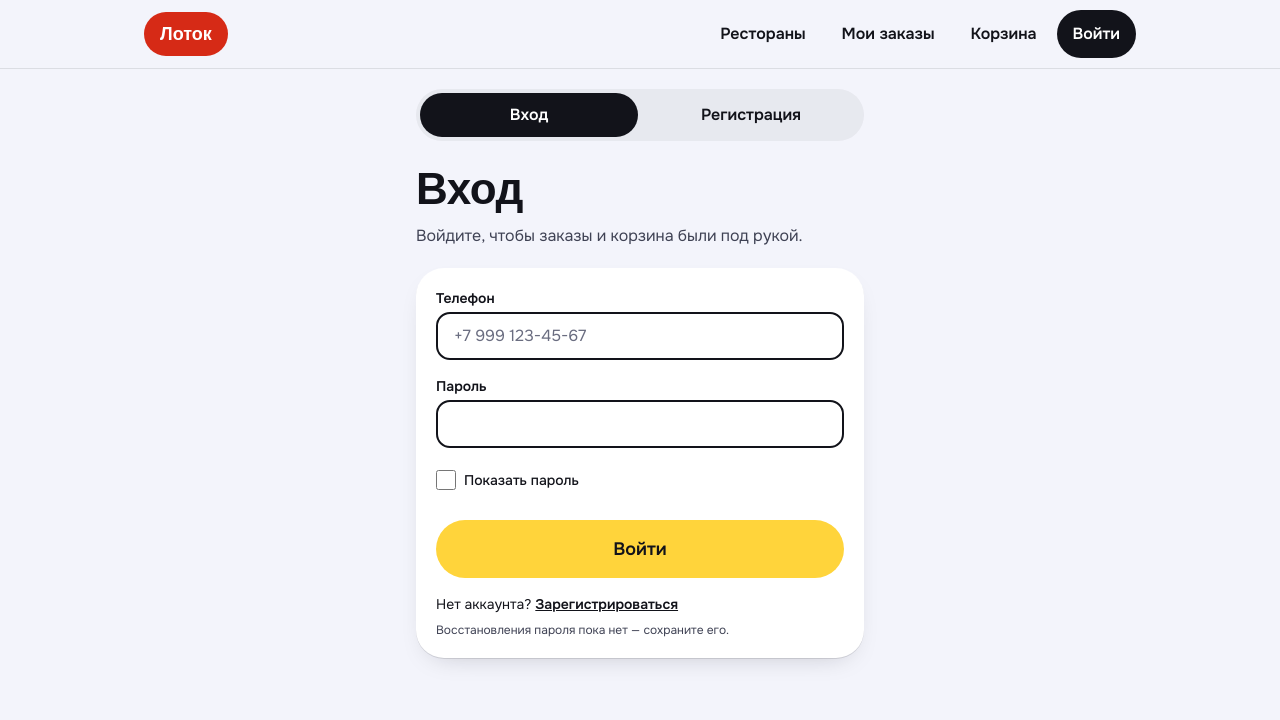
сессия (UC-ACC) › вход → профиль; выход очищает сессию
Type "+79990000001" into the field labelled "Телефон" at coordinates (640, 336), box [436, 312, 844, 360]
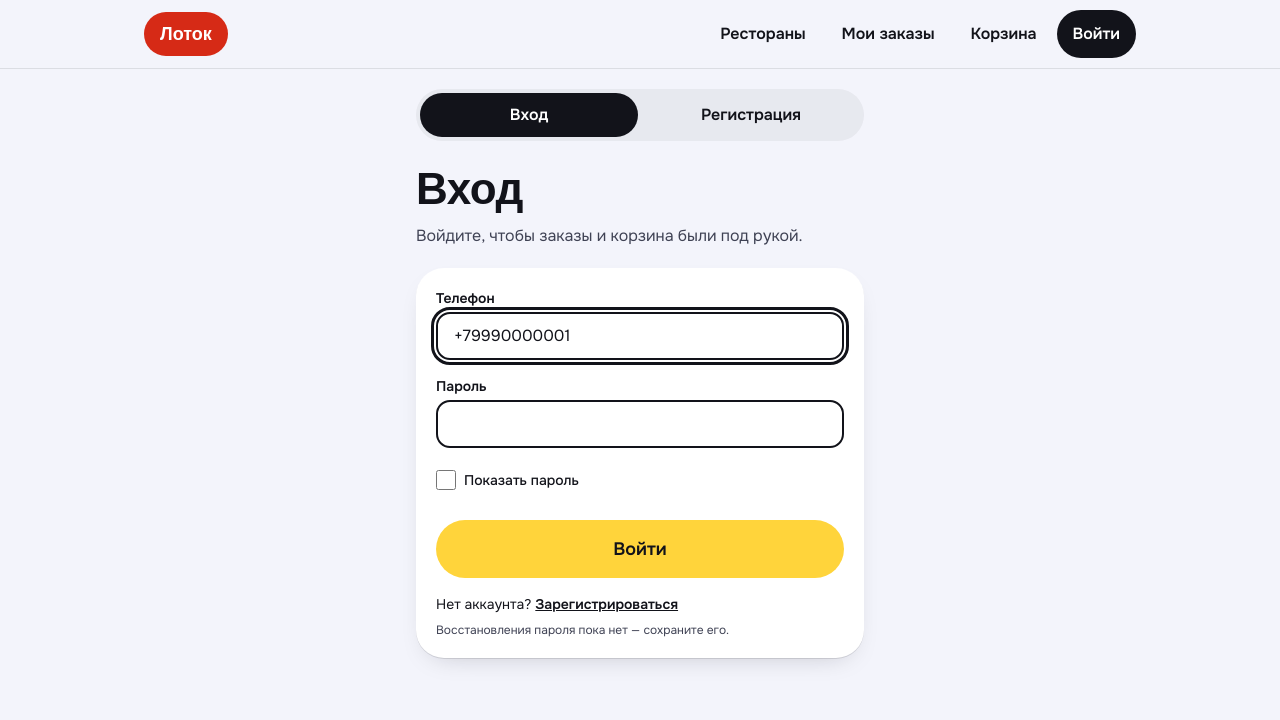
Type "secret1" into the password field labelled "Пароль" at coordinates (640, 424), box [436, 400, 844, 448]
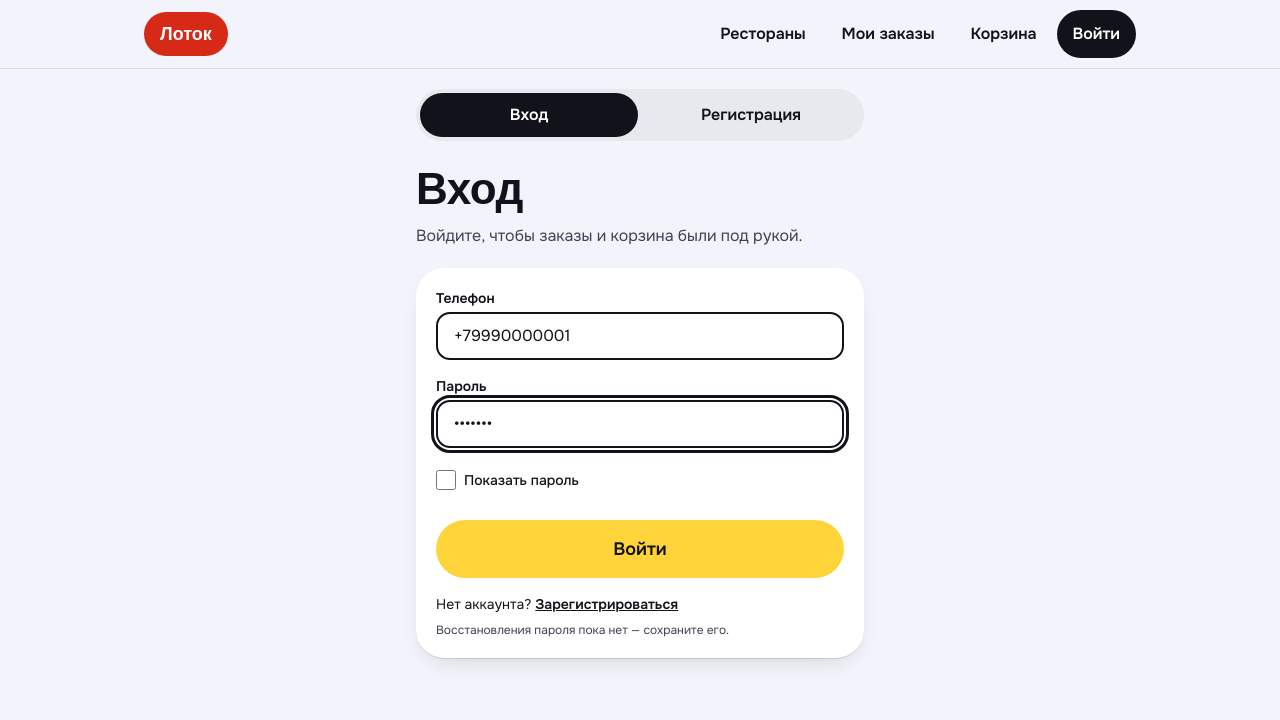
Click the button "Войти" at coordinates (640, 549), box [436, 520, 844, 578]
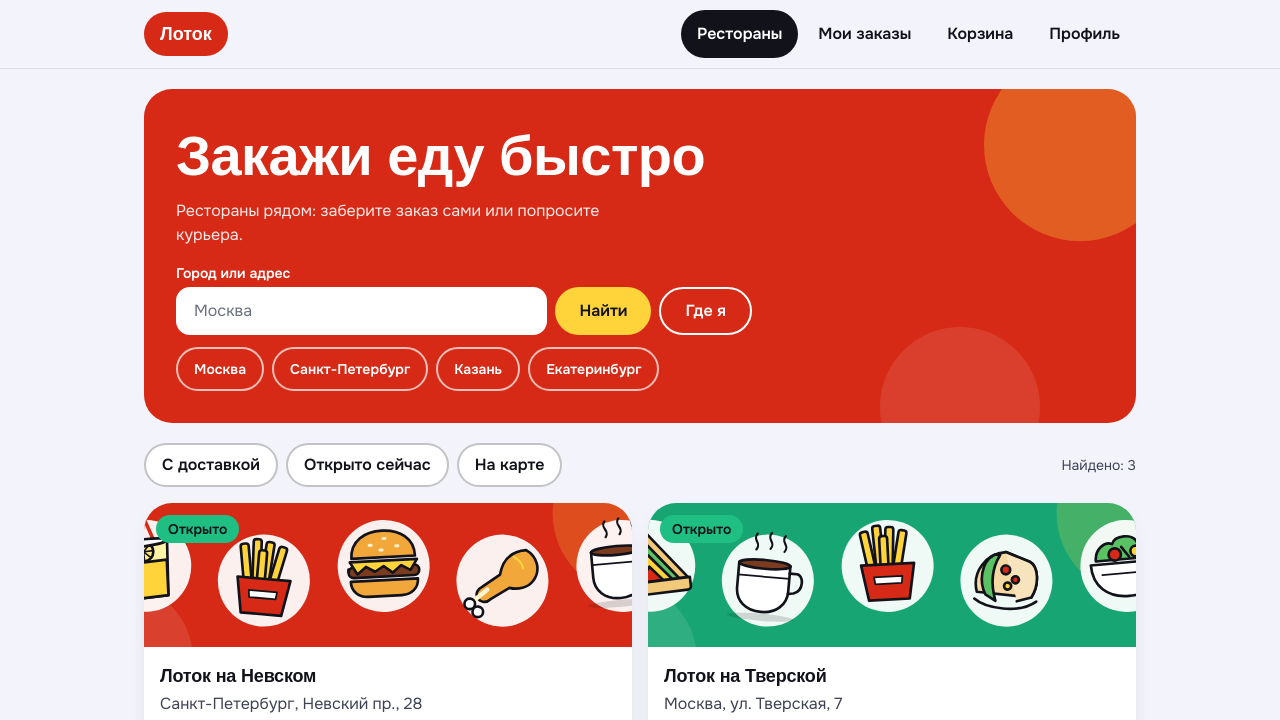
Click the link "Профиль" at coordinates (1085, 34), box [1049, 23, 1120, 44]
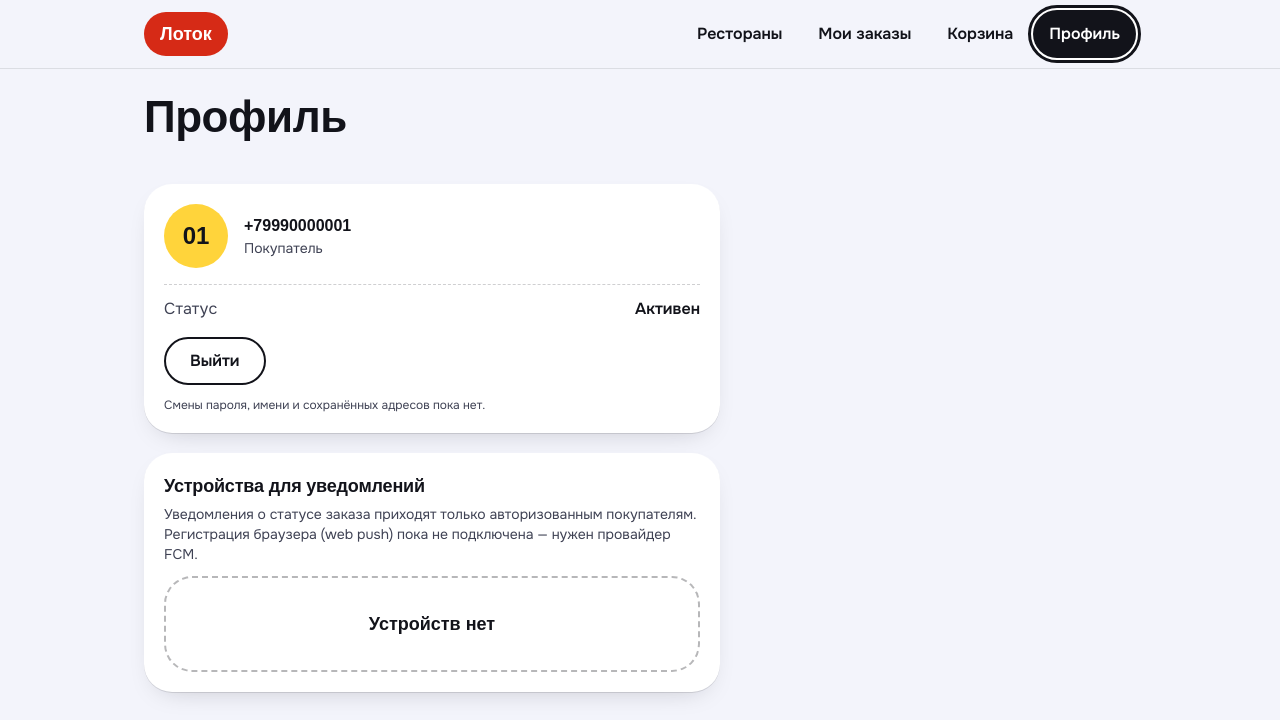
Expected: the text "+79990000001" is shown, [244, 214, 351, 238]
Click the button "Выйти" at coordinates (215, 361), box [164, 337, 266, 385]
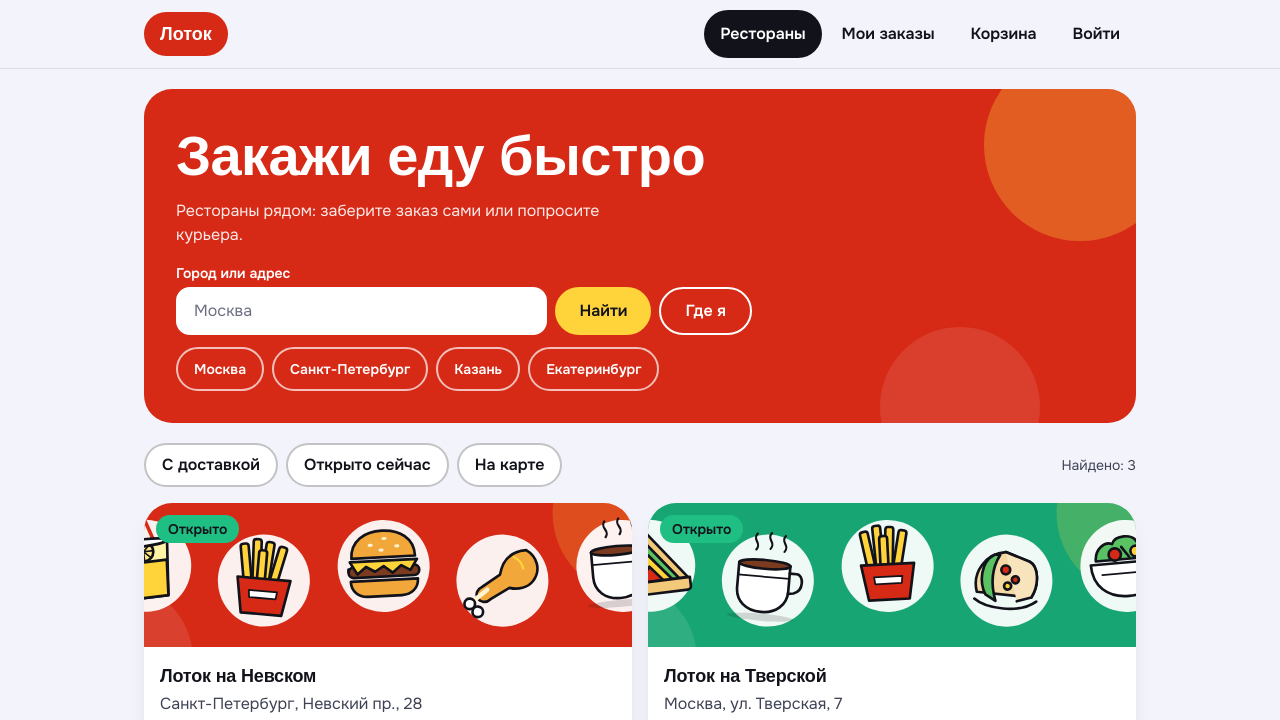
Expected: the link "Войти" is shown, [1072, 23, 1120, 44]
